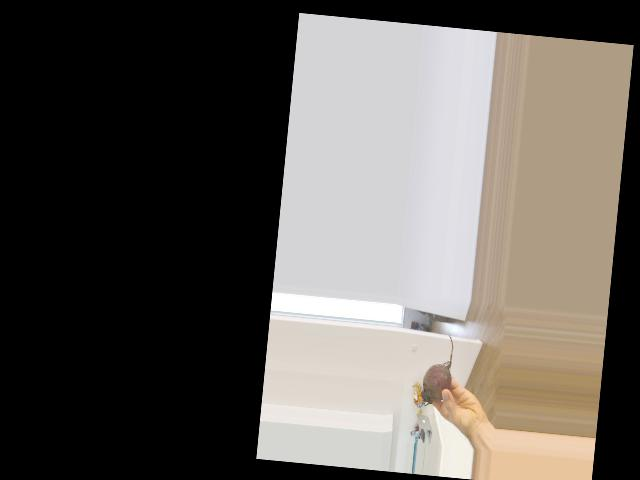beet: (420, 331, 456, 407)
